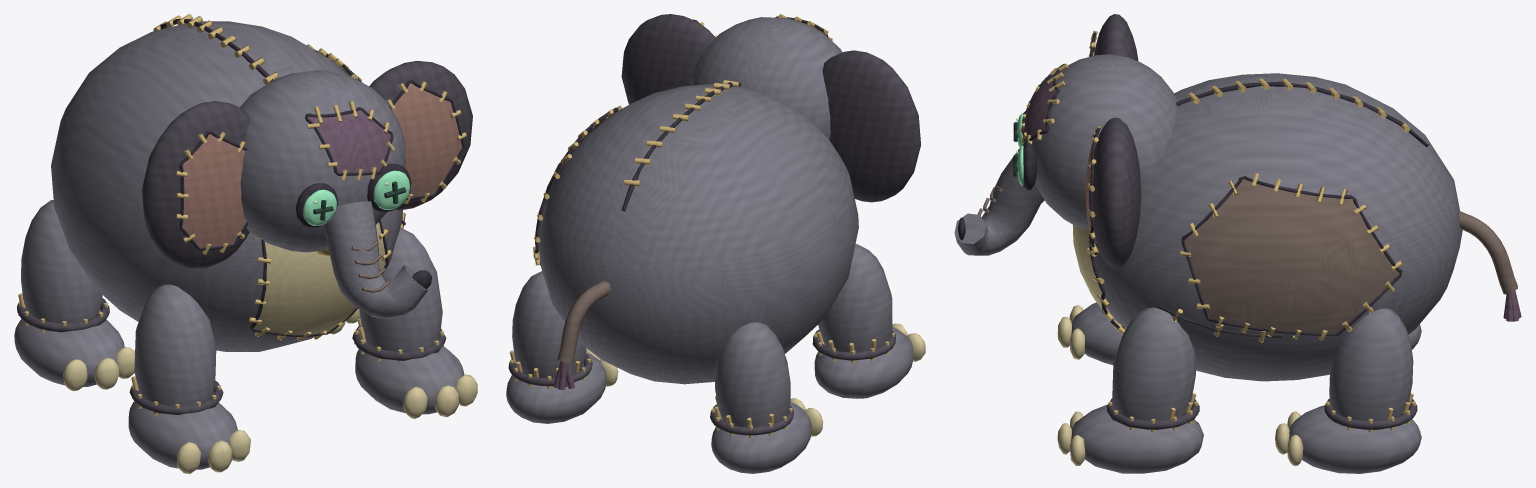
The model's file is 03_elephant.glb.
The picture shows the model from 3 angles, left to right: view 1: azimuth 30°, elevation 25°; view 2: azimuth 150°, elevation 25°; view 3: azimuth 270°, elevation 25°; orthographic projection. The views are drawn at different scales.
Visible parts, largest first — view 1: 03_elephant__head, 03_elephant__body, 03_elephant__fore_L, 03_elephant__hind_L, 03_elephant__fore_R; view 2: 03_elephant__body, 03_elephant__head, 03_elephant__hind_L, 03_elephant__fore_L, 03_elephant__hind_R, 03_elephant__extra; view 3: 03_elephant__body, 03_elephant__head, 03_elephant__fore_R, 03_elephant__hind_R, 03_elephant__fore_L, 03_elephant__extra.
Part boxes in pixels (x1,y1,x2,y2): 03_elephant__head: [142, 61, 472, 319]; 03_elephant__body: [51, 14, 405, 351]; 03_elephant__fore_L: [128, 284, 250, 473]; 03_elephant__hind_L: [14, 200, 134, 391]; 03_elephant__fore_R: [352, 227, 477, 418]; 03_elephant__body: [533, 80, 858, 384]; 03_elephant__head: [621, 14, 920, 202]; 03_elephant__hind_L: [710, 322, 823, 473]; 03_elephant__fore_L: [812, 244, 925, 398]; 03_elephant__hind_R: [506, 271, 618, 423]; 03_elephant__extra: [553, 281, 610, 390]; 03_elephant__body: [1073, 73, 1462, 381]; 03_elephant__head: [954, 14, 1178, 268]; 03_elephant__fore_R: [1057, 307, 1203, 473]; 03_elephant__hind_R: [1275, 308, 1421, 473]; 03_elephant__fore_L: [1057, 302, 1122, 364]; 03_elephant__extra: [1459, 211, 1521, 321].
Bounding box in the file's own units: 2.33 × 2.47 × 3.62.
1 material, 1 textured.
